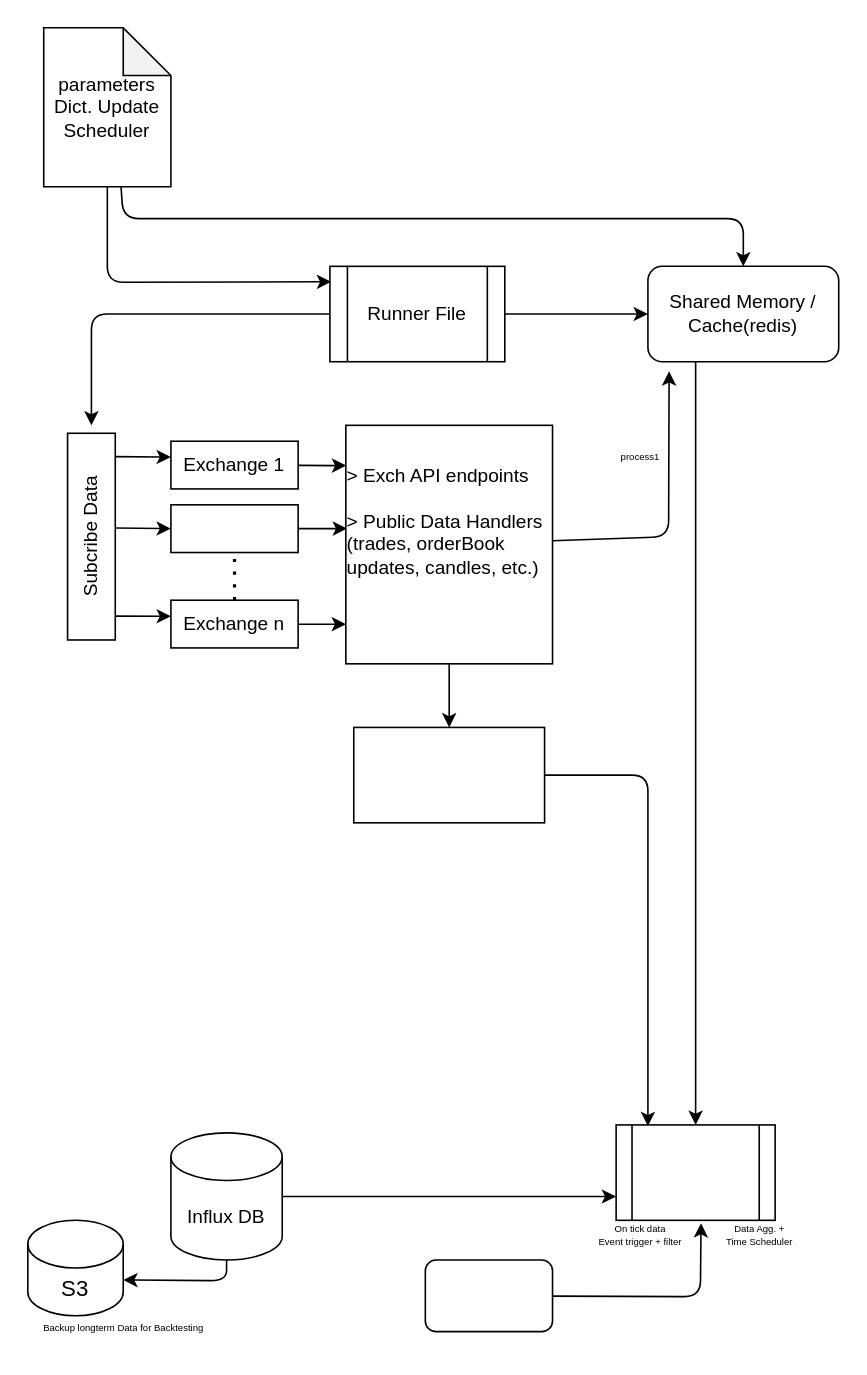
This 867x1375 diagram has some shape labels left out. The shapes that lost their labels are listed below. From the top down, each one's centre as x and y in pixels, then its label:
the point at 233,528: Exchange 2
the point at 448,774: Local OrderBook
the point at 695,1171: Signal generation
the point at 488,1295: Factor library
